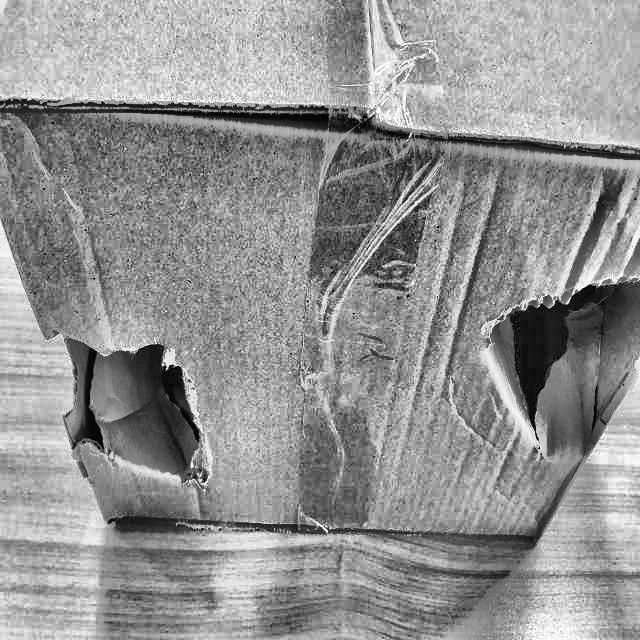box: (0, 0, 639, 565)
hole: (481, 237, 640, 462), (49, 303, 213, 519)
